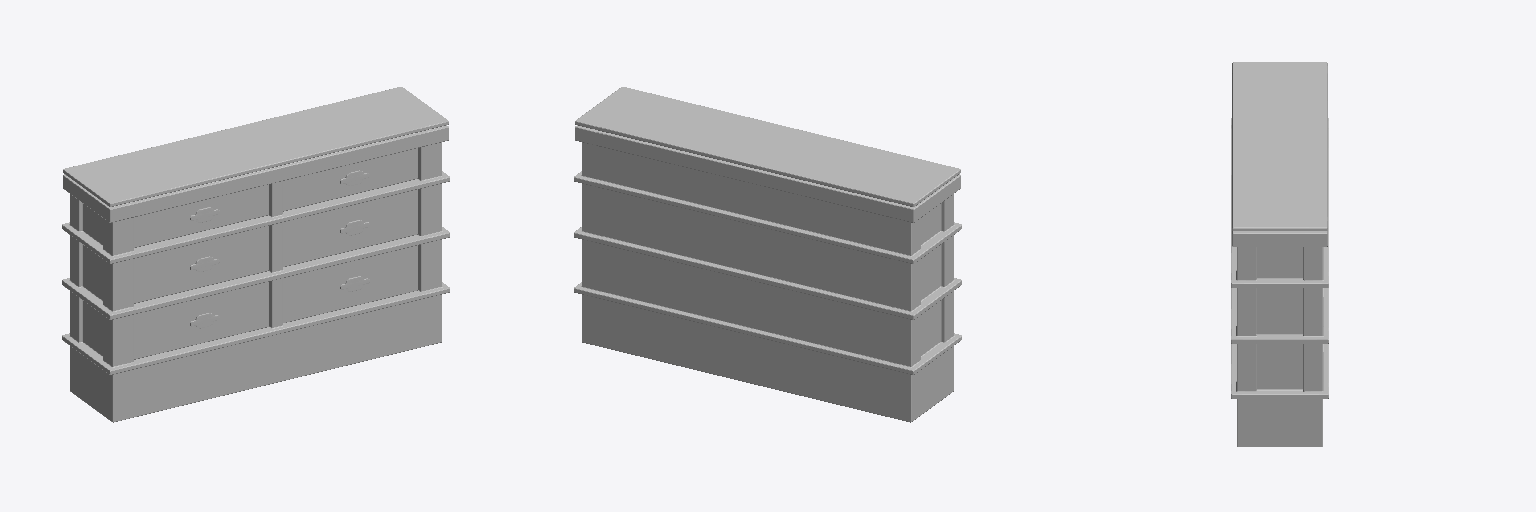
The model's file is Drawers.obj.
3 renders of one model, left to right at view 1: azimuth 30°, elevation 25°; view 2: azimuth 150°, elevation 25°; view 3: azimuth 270°, elevation 25°, orthographic.
Parts seen in each view (by area): view 1: Drawers, Drawers1 Drawers Drawer5, Drawers1 Drawers Drawer6, Drawers1 Drawers Drawer4, Drawers1 Drawers Drawer3, Drawers1 Drawers Drawer2, Drawer1 Drawers1 Drawers; view 2: Drawers; view 3: Drawers.
Part boxes in pixels (x1,y1,x2,y2): Drawers: (62,87,449,422); Drawers1 Drawers Drawer5: (134,282,268,359); Drawers1 Drawers Drawer6: (283,245,417,322); Drawers1 Drawers Drawer4: (283,189,417,266); Drawers1 Drawers Drawer3: (134,226,268,303); Drawers1 Drawers Drawer2: (283,148,417,211); Drawer1 Drawers1 Drawers: (134,184,268,247); Drawers: (574,87,961,422); Drawers: (1231,62,1328,446).
Bounding box in the file's own units: 145 × 90.47 × 36.11.